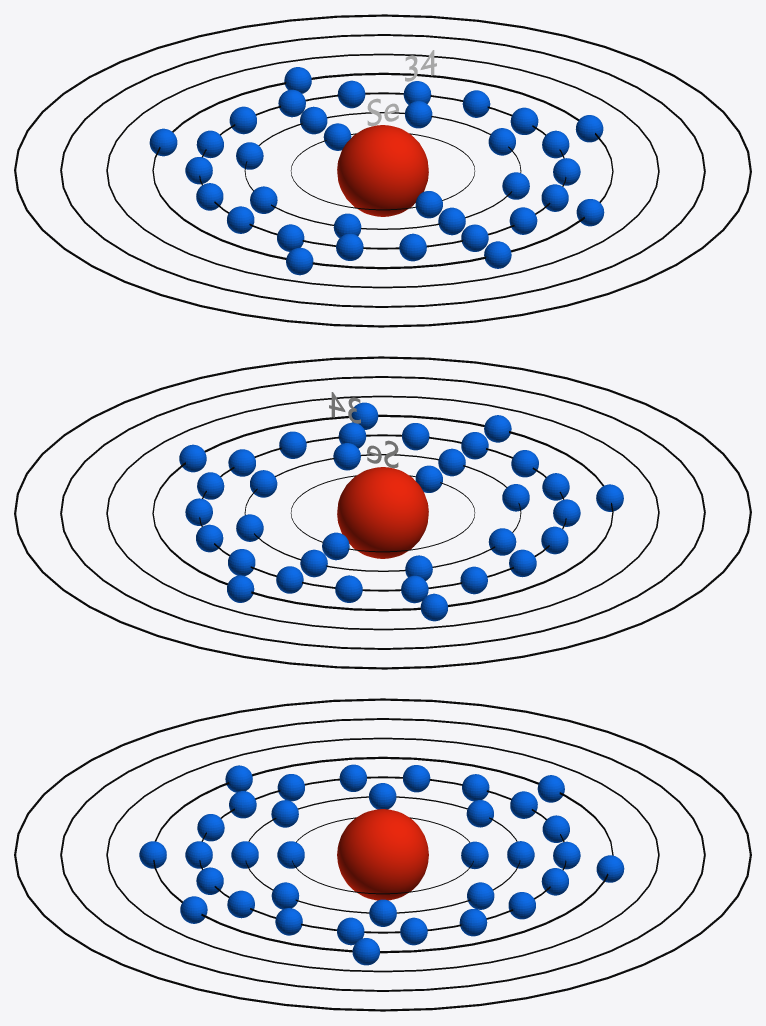
3 views of the same model, one above another, from view 1: azimuth 30°, elevation 25°; view 2: azimuth 150°, elevation 25°; view 3: azimuth 270°, elevation 25° (orthographic).
Visible parts, largest first — view 1: Se3, Proton, Se2, n7, n6, Se4, n5, n4, Se1, n3, n2; view 2: Se3, Proton, Se2, n7, n6, Se4, n5, n4, Se1, n3, n2; view 3: Se3, Proton, Se2, n7, n6, Se4, n5, n4, Se1, n3, n2, n1.
Boxes of the visible parts, x1,y1,x2,y2 form: Se3: [185, 80, 580, 261]; Proton: [337, 125, 428, 216]; Se2: [236, 101, 529, 237]; n7: [14, 14, 751, 327]; n6: [60, 34, 705, 307]; Se4: [149, 67, 604, 275]; n5: [106, 53, 659, 288]; n4: [152, 72, 613, 269]; Se1: [323, 123, 442, 218]; n3: [199, 92, 566, 249]; n2: [244, 112, 521, 229]; Se3: [185, 422, 580, 603]; Proton: [337, 467, 428, 558]; Se2: [236, 443, 529, 580]; n7: [14, 356, 751, 669]; n6: [60, 376, 705, 649]; Se4: [179, 402, 623, 621]; n5: [106, 395, 659, 630]; n4: [152, 414, 613, 611]; Se1: [322, 465, 442, 560]; n3: [199, 434, 566, 591]; n2: [244, 454, 521, 571]; Se3: [185, 764, 580, 945]; Proton: [337, 809, 428, 900]; Se2: [231, 783, 534, 926]; n7: [14, 698, 751, 1011]; n6: [60, 718, 705, 991]; Se4: [139, 765, 624, 965]; n5: [106, 737, 659, 972]; n4: [153, 756, 613, 953]; Se1: [277, 841, 488, 869]; n3: [199, 776, 566, 933]; n2: [245, 796, 520, 913]; n1: [292, 817, 473, 894].
Size of the model in its own units: 802 by 180 by 802.
